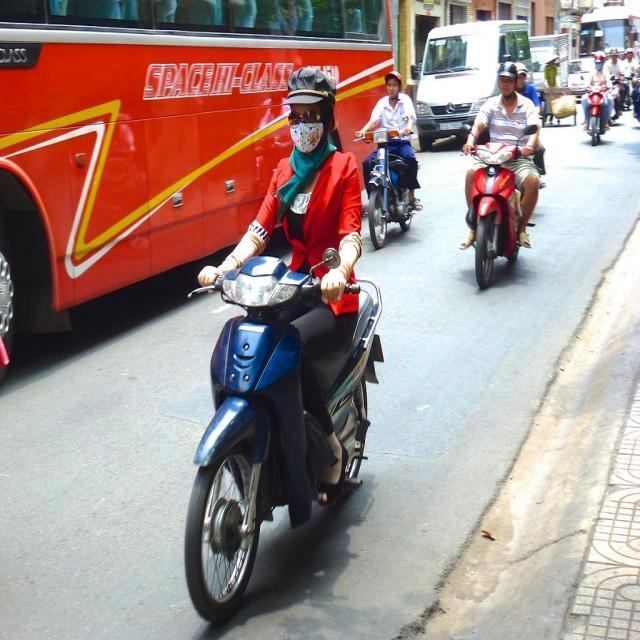car: (13, 0, 390, 353), (411, 12, 569, 155)
motorcycle: (184, 169, 401, 631), (457, 136, 537, 292), (362, 132, 425, 252)
